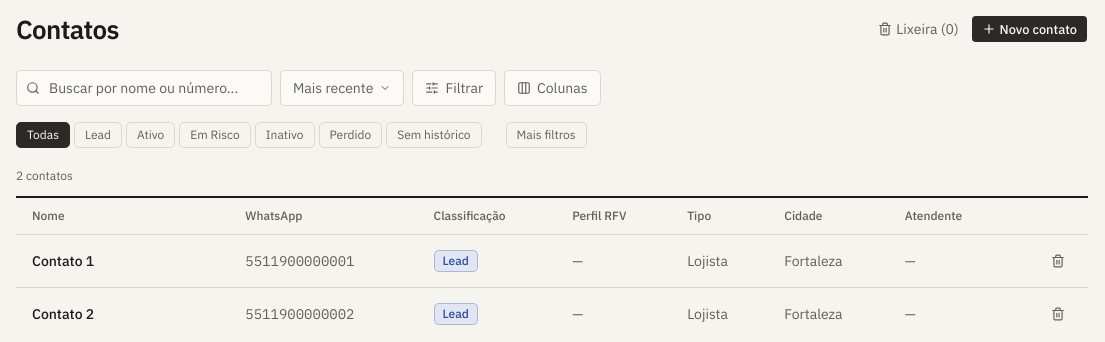
Test case: B40-01 — nicho sai das telas do contato › CA-B40-07: should mostrar os botões rápidos sem os de nicho
The width and height of the screenshot is (1105, 342).
Note: B48-11: tipo e atendente ficam atrás de "Mais filtros"
Click the button "Mais filtros": (546, 134) top-left (506, 122), bottom-right (587, 148)
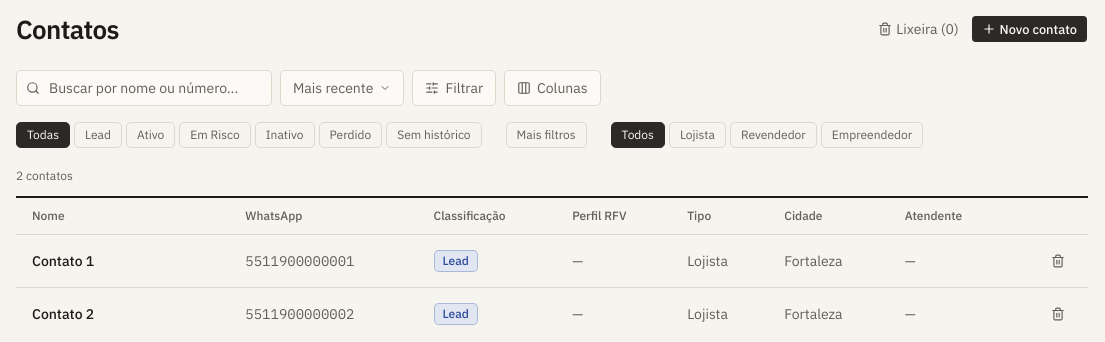
Expected: the button "Ativo" is shown, top-left (126, 122), bottom-right (175, 148)
Result: the button "Lojista" is shown at top-left (669, 122), bottom-right (726, 148)
